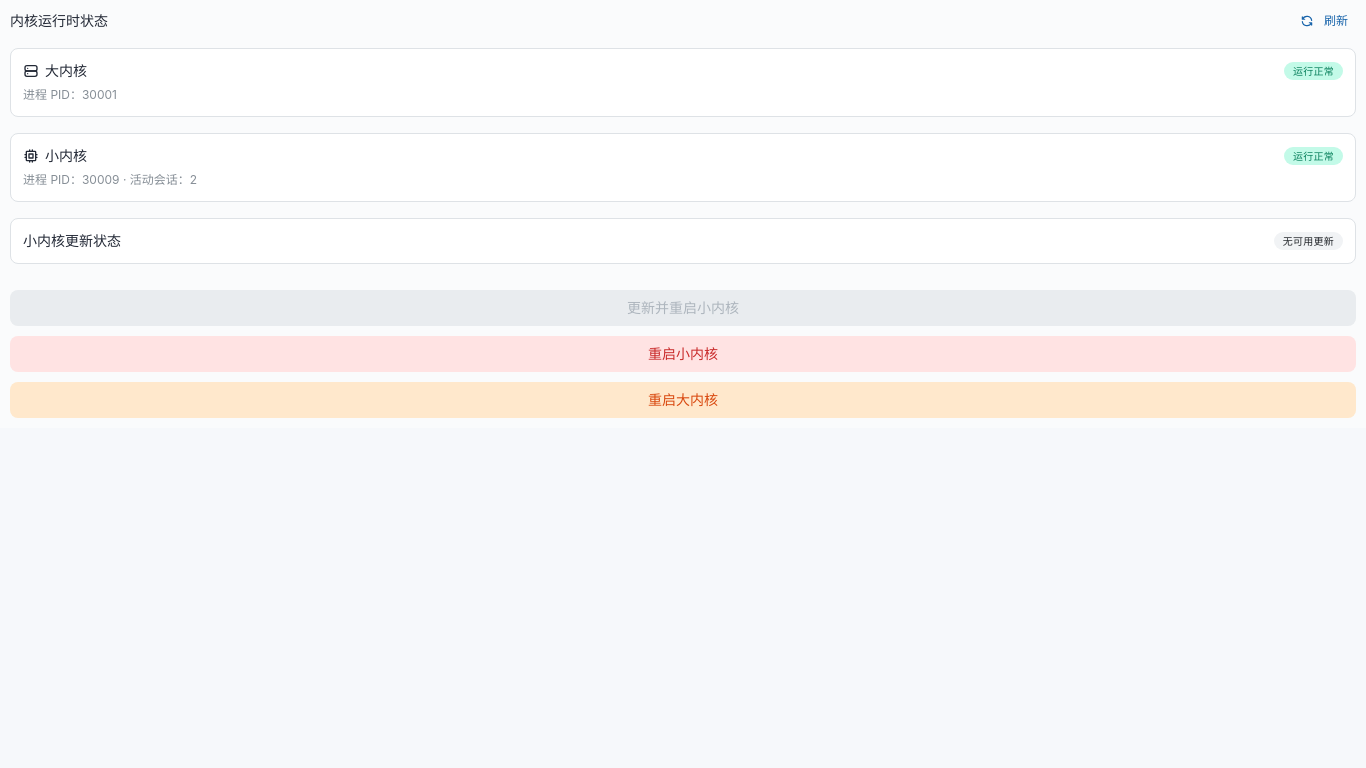
Test: KernelManagementPanel › warns about temporary disconnect while daemon continues running for app restart
The width and height of the screenshot is (1366, 768).
Click the button "重启大内核". click: (683, 400)
box: [10,382,1356,418]
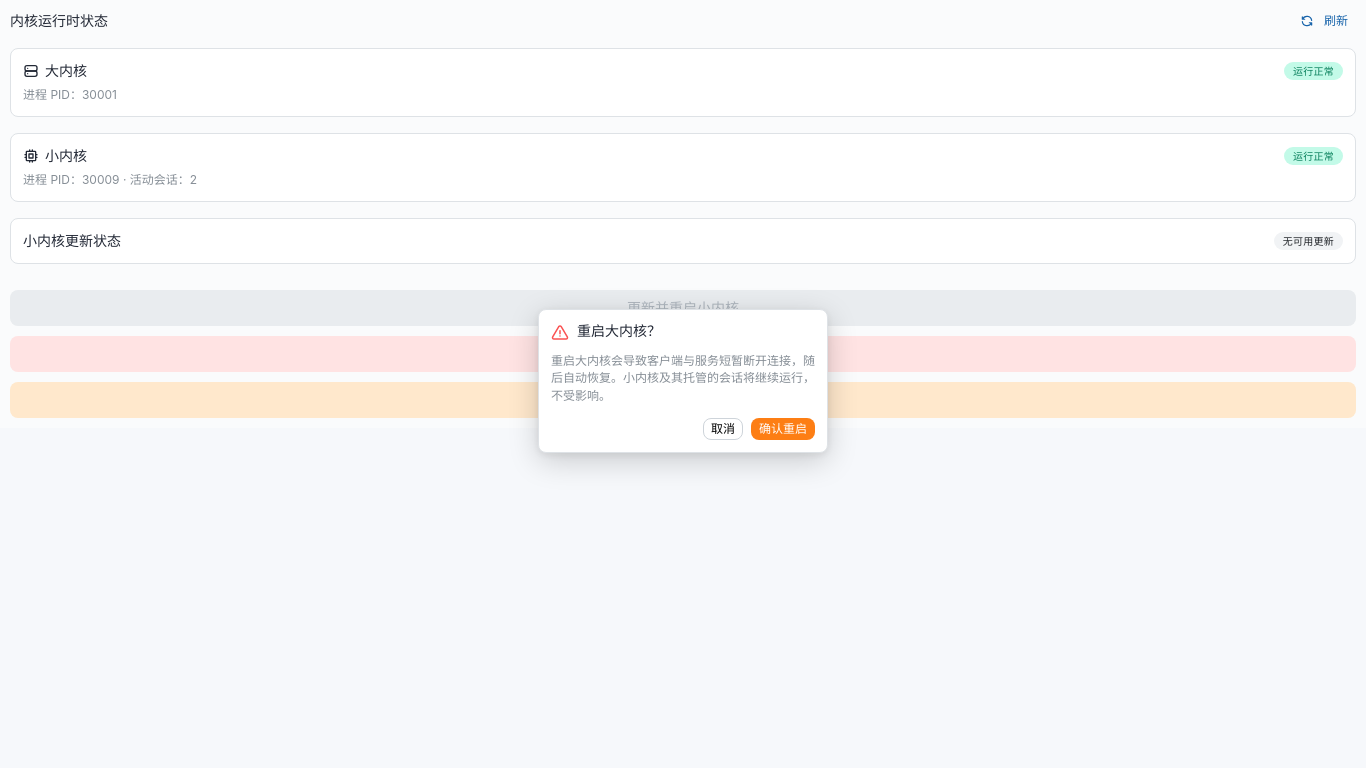
Result: the dialog "重启大内核？" shows "短暂断开连接" at [551,353,815,403]
Result: the dialog "重启大内核？" reads "重启大内核？ 重启大内核会导致客户端与服务短暂断开连接，随后自动恢复。小内核及其托管的会话将继续运行，不受影响。 取消 确认重启" at [551,353,815,403]
